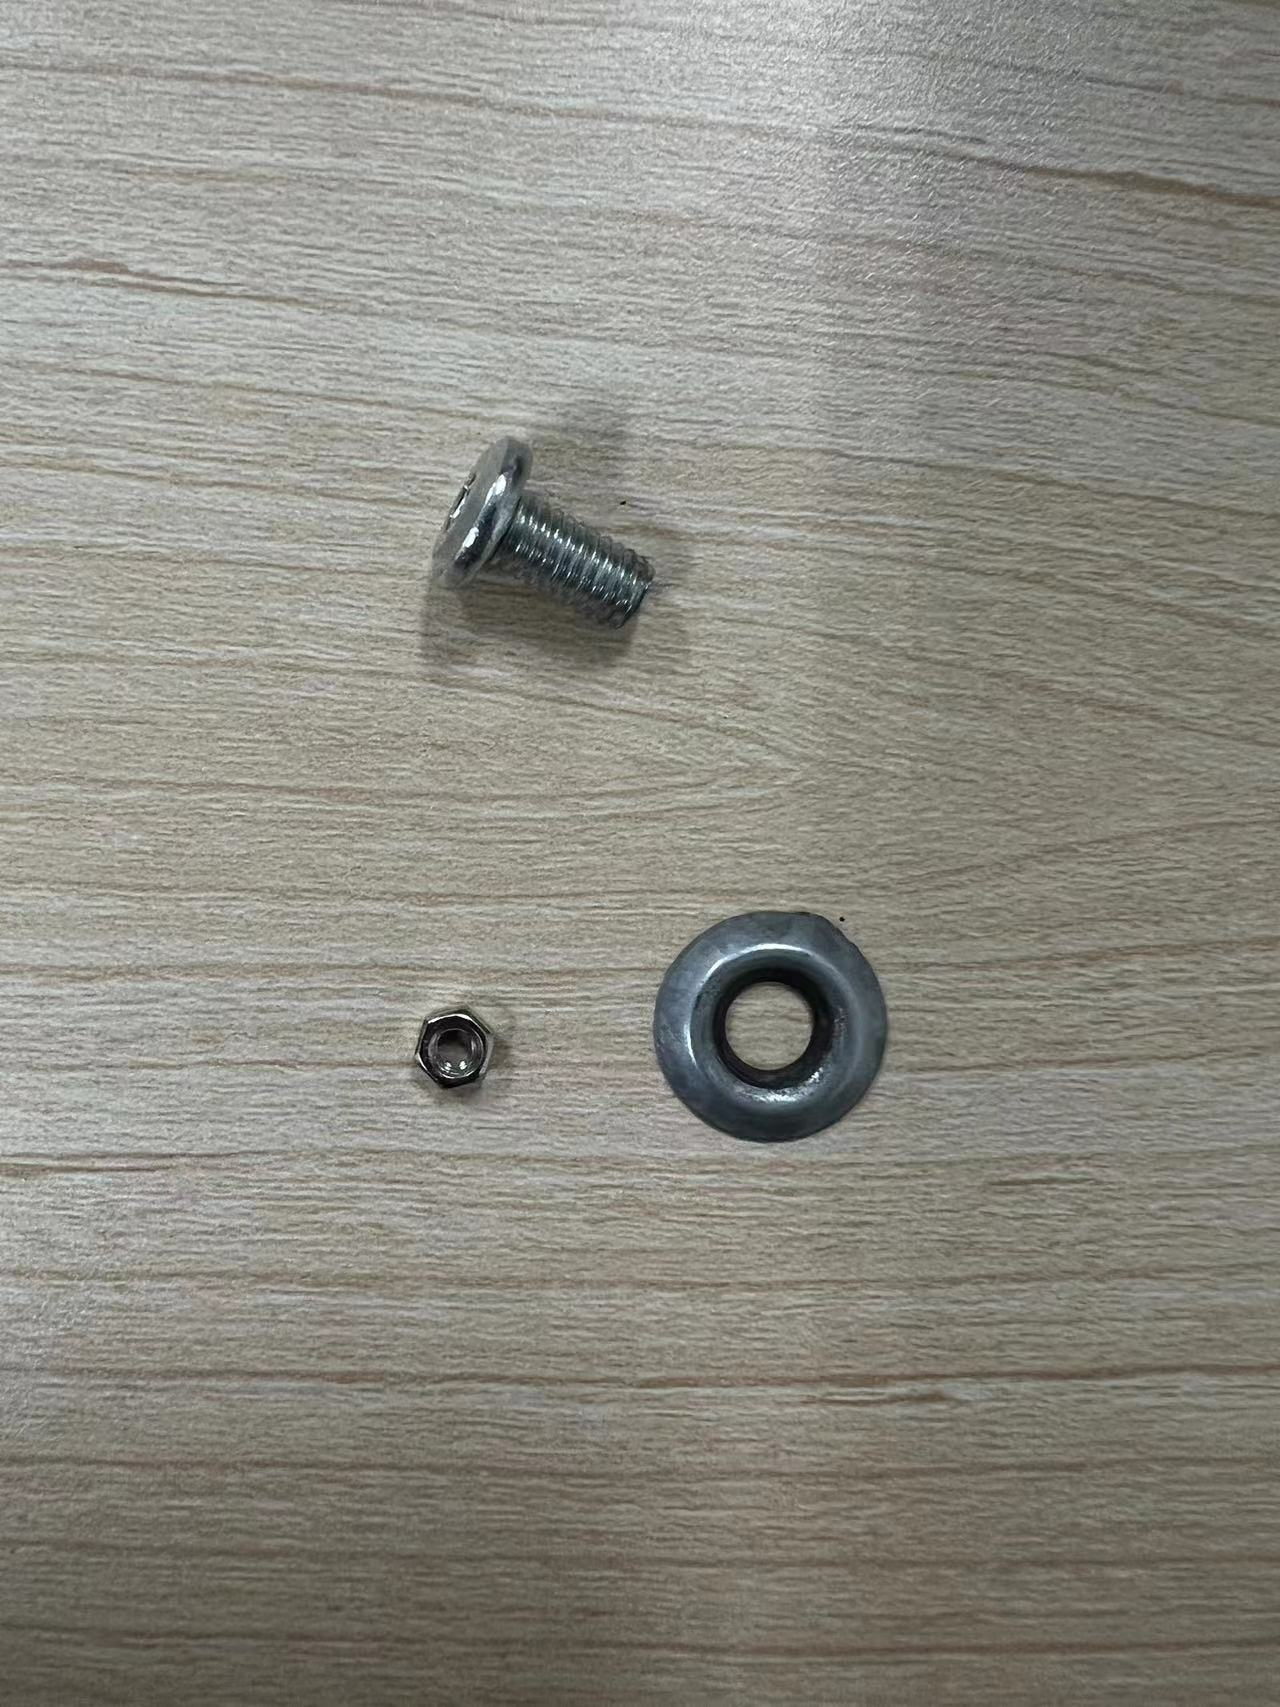Hexagon nut: (393, 993, 512, 1110)
Round head screw: (417, 427, 666, 648)
Spring washer: (637, 897, 909, 1153)
